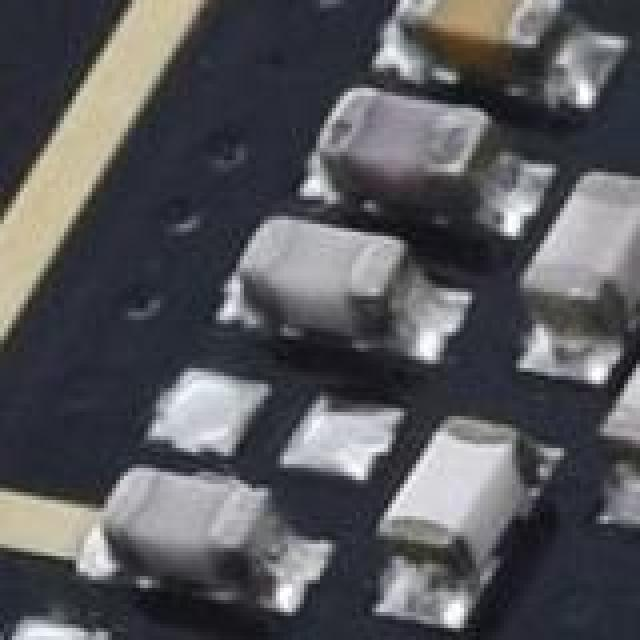capacitor: (224, 204, 428, 346), (96, 452, 284, 594), (264, 92, 508, 194), (380, 412, 536, 568), (504, 160, 640, 320), (376, 0, 584, 92), (588, 328, 640, 472)
